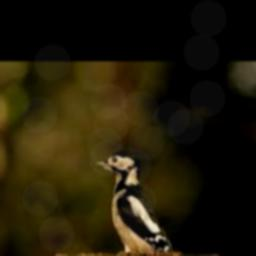Woodpecker: (94, 152, 173, 253)
